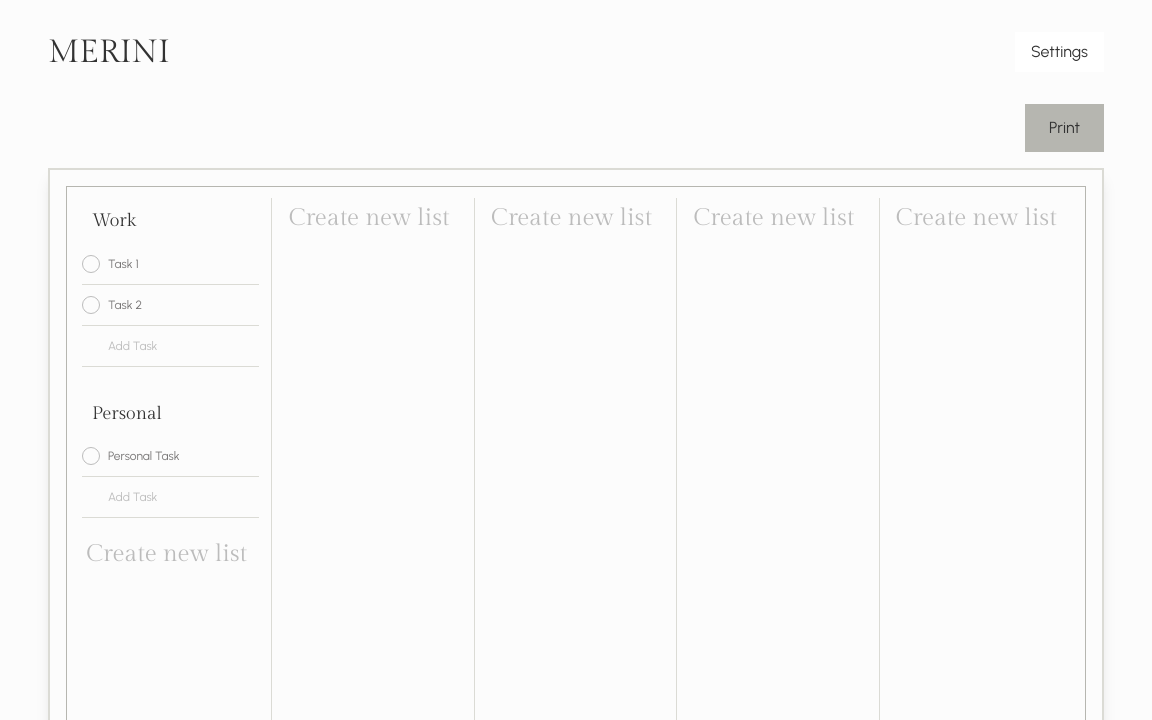
Test: App - List Archiving › archives list and all tasks when confirmed
Expected: the button "Task 1" is shown, x1=108 y1=257 x2=139 y2=271
Expected: the button "Task 2" is shown, x1=108 y1=298 x2=142 y2=312
Click the button "Work" at (114,220), box x1=92 y1=210 x2=136 y2=231
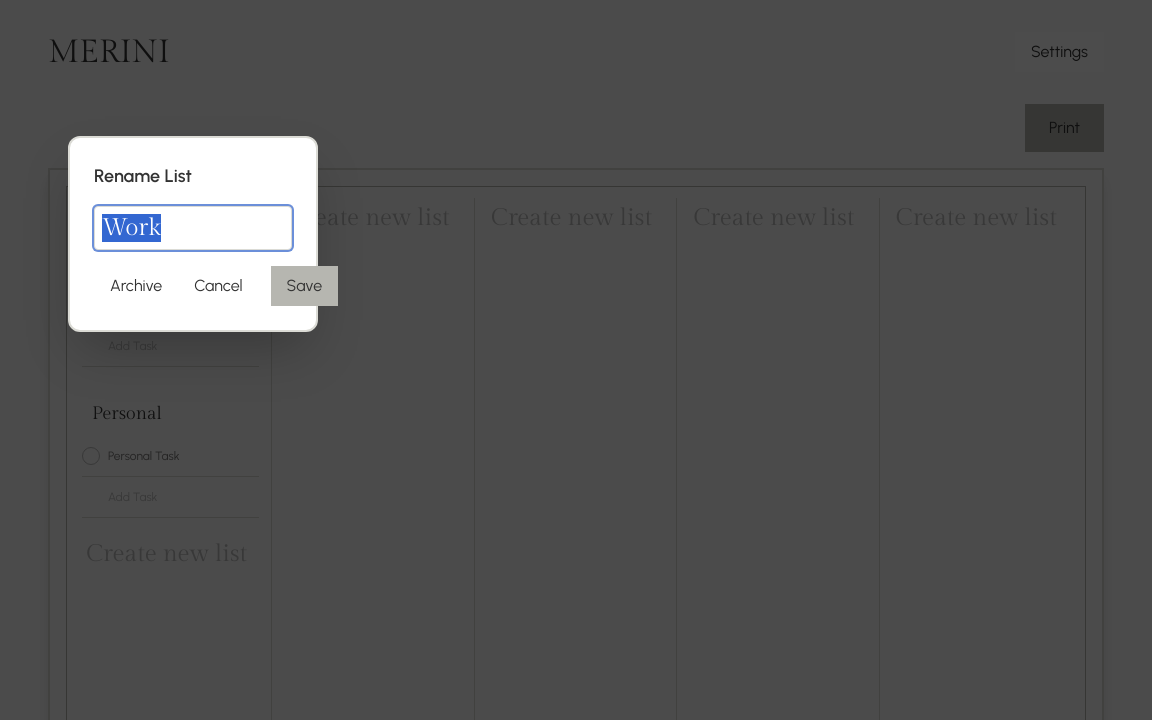
Expected: the dialog is shown
Click the button with aria-label "archive this list" at (136,286), box x1=94 y1=266 x2=178 y2=306
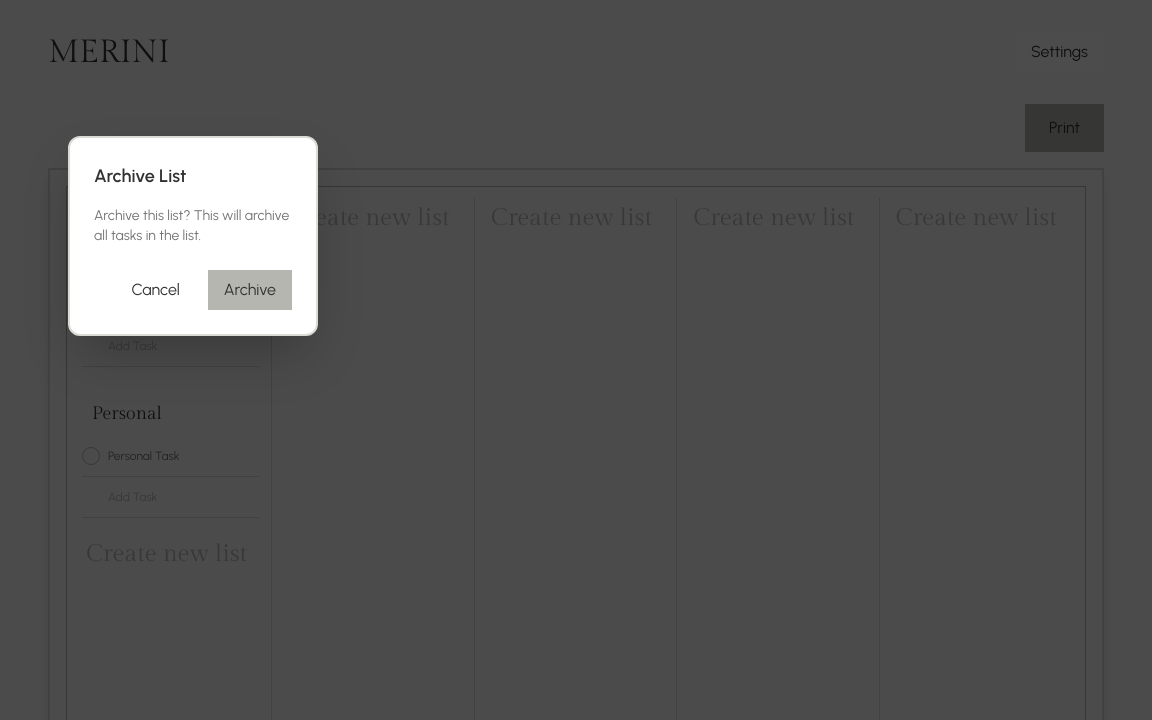
Expected: the heading "Archive List" is shown, x1=94 y1=165 x2=186 y2=187
Click the button with aria-label "confirm archive list" at (250,290), box x1=208 y1=270 x2=292 y2=310
(page scrolled)
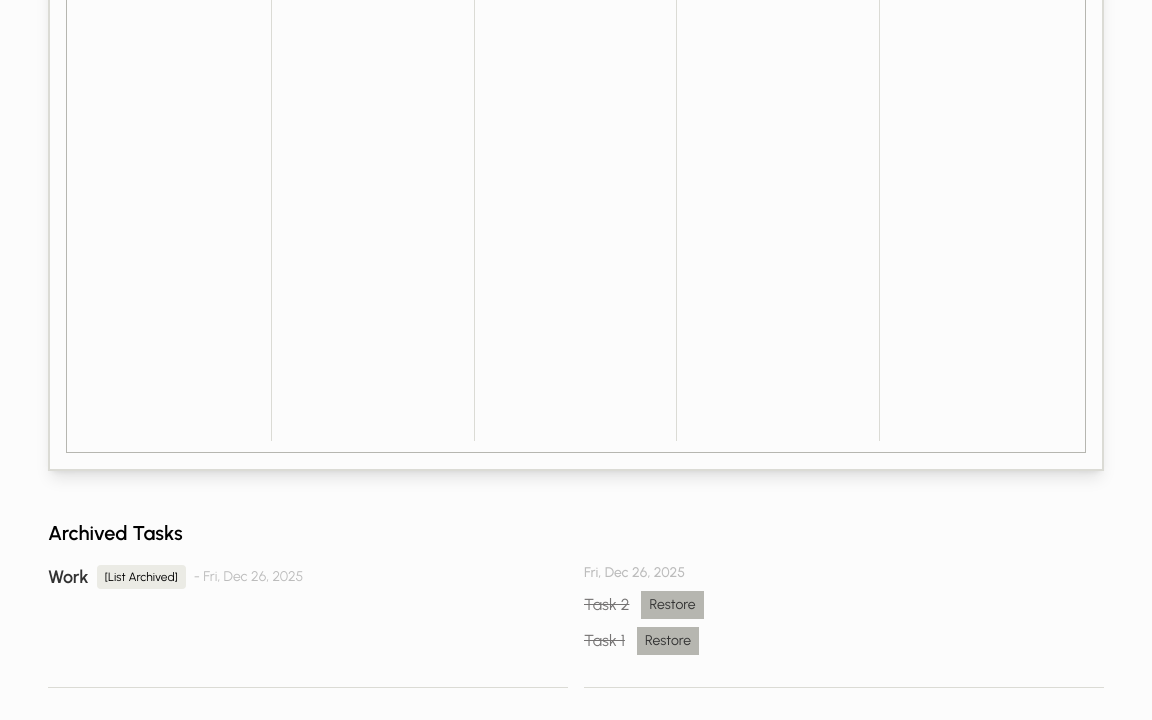
Expected: the text "Task 1" is shown, x1=584 y1=629 x2=625 y2=653
Expected: the dialog is gone
